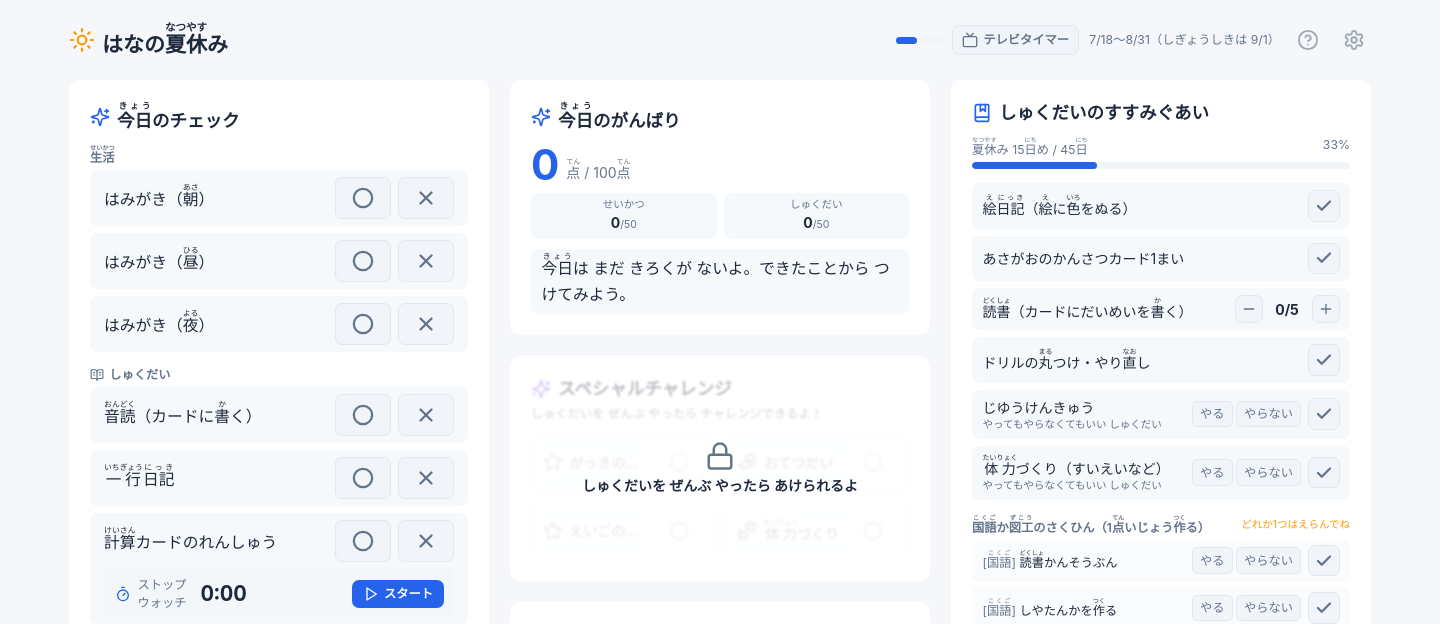
Test: 子どもページ・失敗の文言 › api の文言でない失敗は、決まった一言に畳む
What coordinates should you click on to do the following:
click the 1st button named "やった"
I would click on:
 (363, 198)
Its box is x1=335 y1=177 x2=391 y2=219.
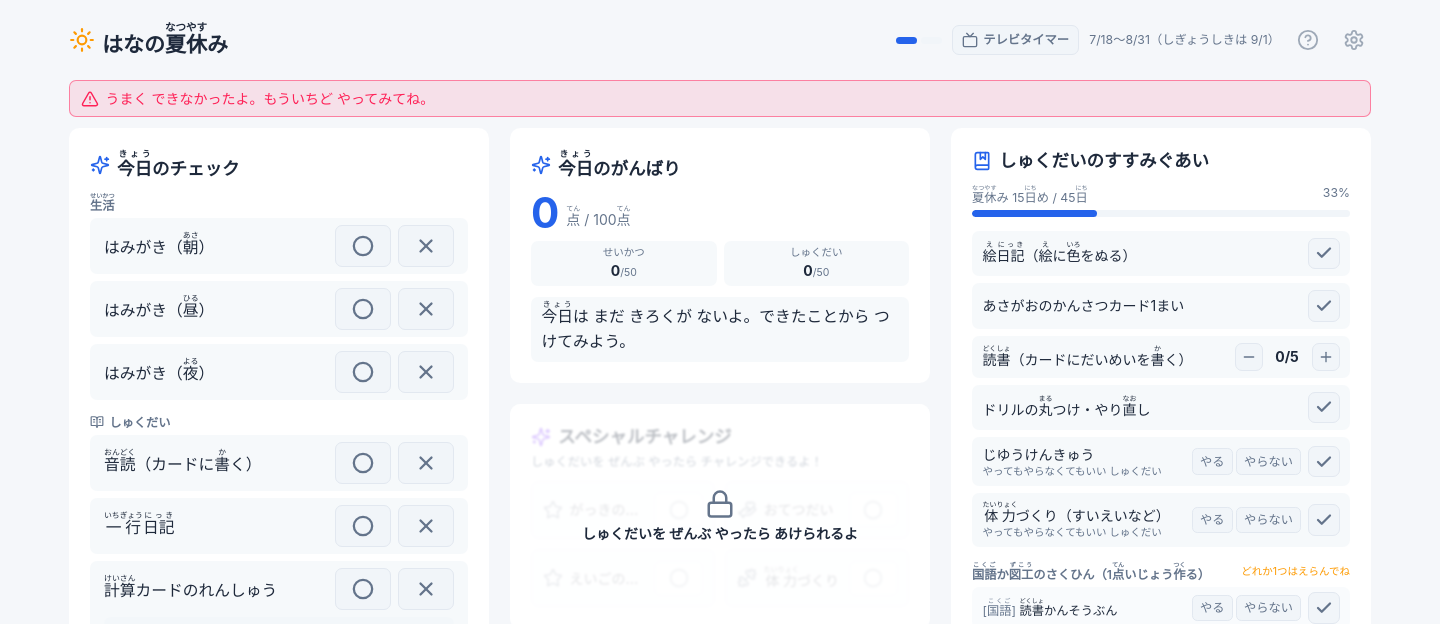
Now the text "もういちど" is shown, box x1=106 y1=90 x2=434 y2=107
